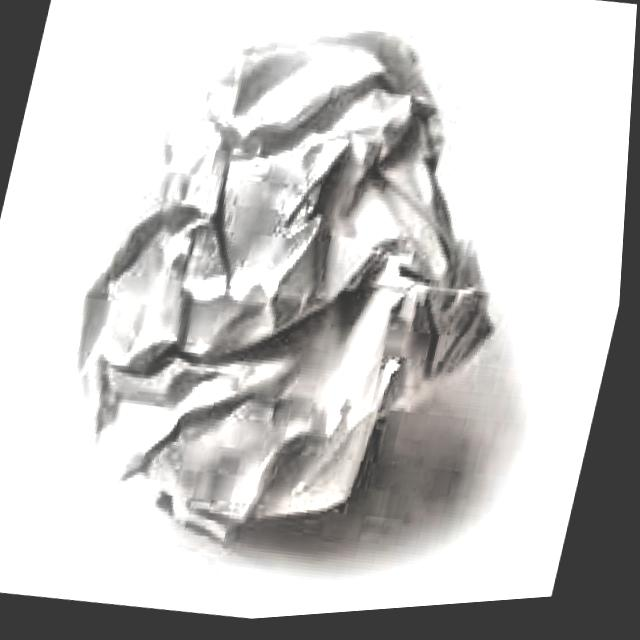Paper: (30, 0, 561, 595)
